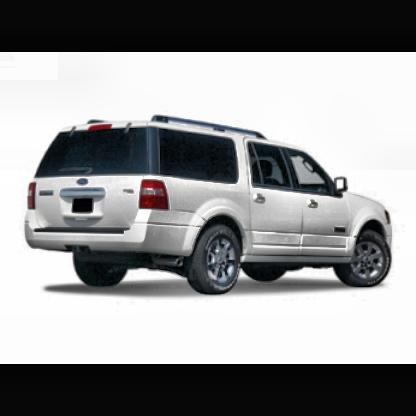Ford Expedition EL SUV 2009: (28, 116, 397, 297)
